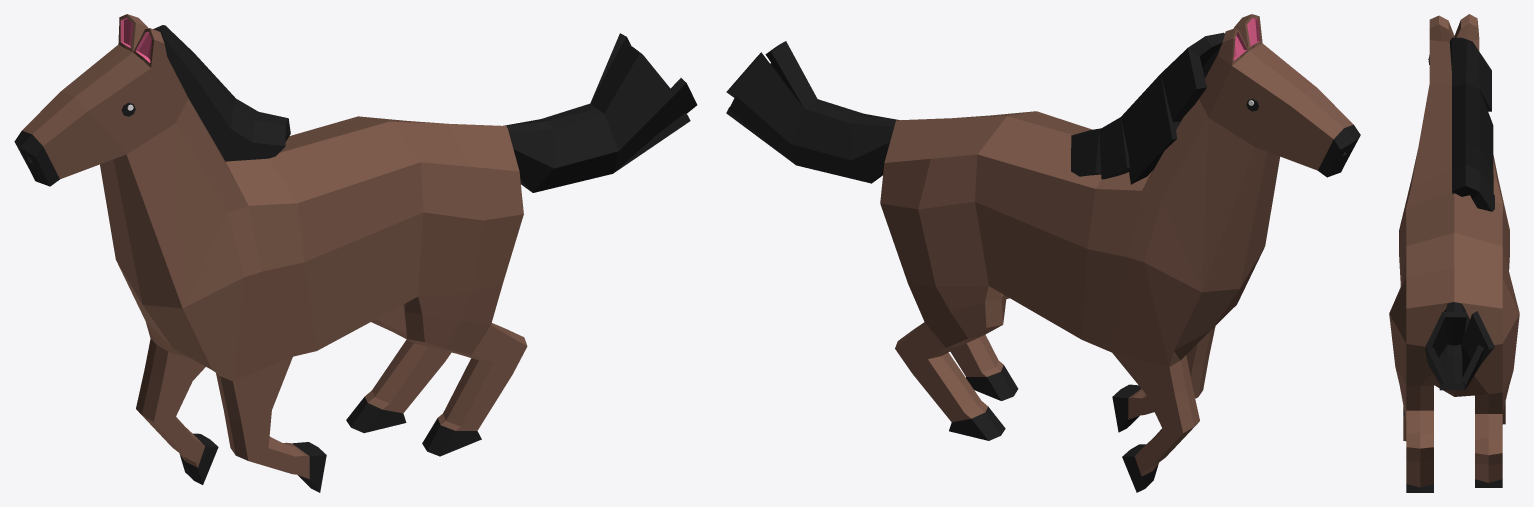
The model's file is scene_68PMrnqxNx.glb.
3 renders of one model, left to right at view 1: azimuth 30°, elevation 25°; view 2: azimuth 150°, elevation 25°; view 3: azimuth 270°, elevation 25°, orthographic. The views are drawn at different scales.
Visible parts, largest first — view 1: Cube.027; view 2: Cube.027; view 3: Cube.027.
Part boxes in pixels (x1,y1,x2,y2): Cube.027: (14,14,697,492); Cube.027: (726,14,1360,492); Cube.027: (1389,14,1519,492).
Size of the model in its own units: 279 by 198 by 61.35.
